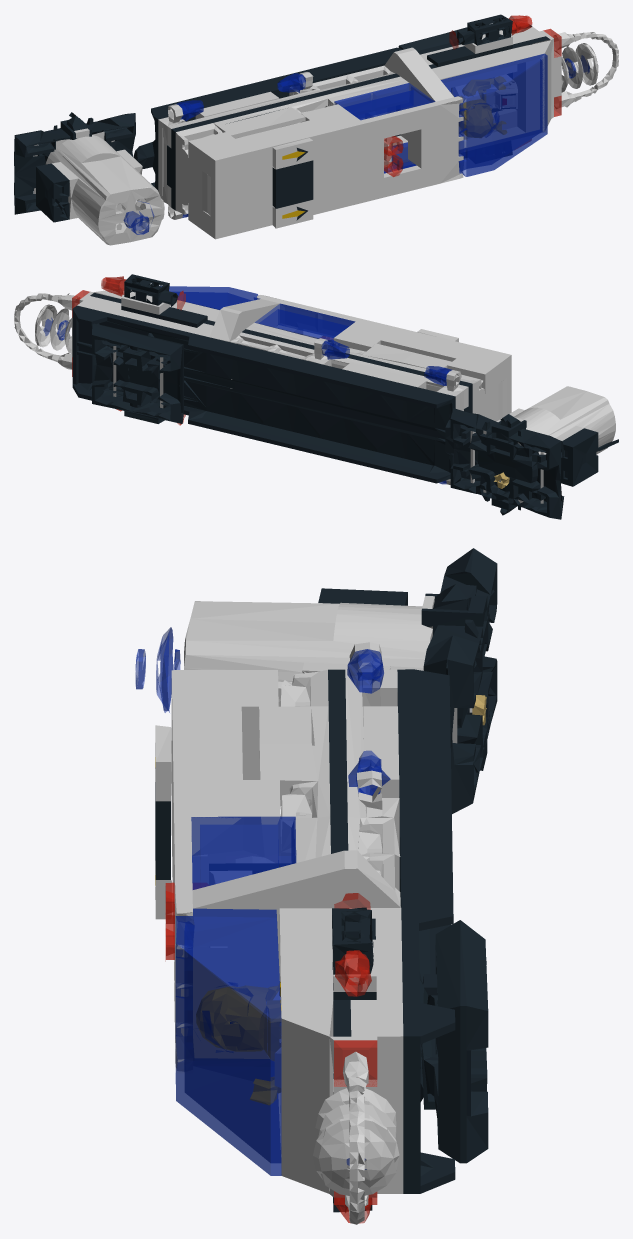
Rendered from front-coach-with-motor-unit.glb.
3 views of the same model, one above another, from view 1: azimuth 30°, elevation 25°; view 2: azimuth 150°, elevation 25°; view 3: azimuth 270°, elevation 25° (orthographic). The views are drawn at different scales.
Size of the model in its own units: 246 by 54.4 by 66.62.
